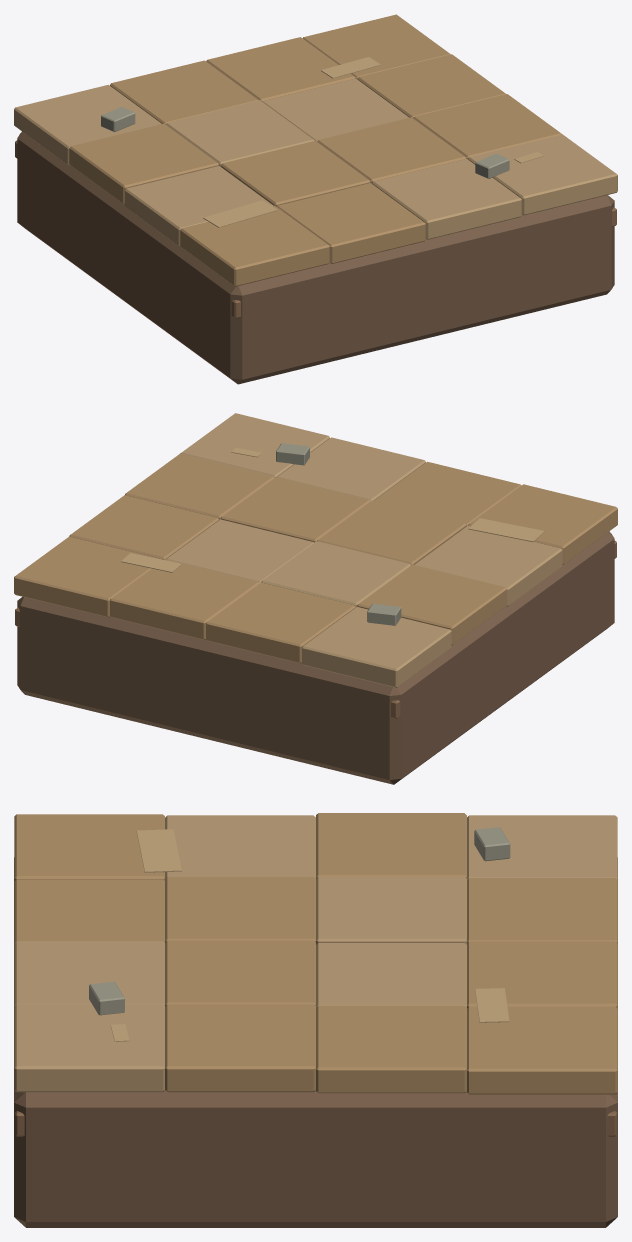
File: warm_ground_0.glb
3 views of the same model, one above another, from view 1: azimuth 30°, elevation 25°; view 2: azimuth 150°, elevation 25°; view 3: azimuth 270°, elevation 25° (orthographic). The views are drawn at different scales.
Visible parts, largest first — view 1: ground_0_sample_soil, ground_0_sample_earth, ground_0_sample_dust, ground_0_sample_sand, ground_0_sample_stone; view 2: ground_0_sample_earth, ground_0_sample_soil, ground_0_sample_dust, ground_0_sample_sand, ground_0_sample_stone; view 3: ground_0_sample_earth, ground_0_sample_soil, ground_0_sample_dust, ground_0_sample_sand, ground_0_sample_stone.
Boxes of the visible parts, x1=… form: ground_0_sample_soil: x1=17, y1=131, x2=614, y2=384; ground_0_sample_earth: x1=69, y1=14, x2=562, y2=286; ground_0_sample_dust: x1=14, y1=78, x2=617, y2=246; ground_0_sample_sand: x1=203, y1=57, x2=543, y2=227; ground_0_sample_stone: x1=101, y1=107, x2=509, y2=178; ground_0_sample_earth: x1=14, y1=453, x2=617, y2=663; ground_0_sample_soil: x1=17, y1=531, x2=614, y2=784; ground_0_sample_dust: x1=166, y1=413, x2=562, y2=687; ground_0_sample_sand: x1=121, y1=448, x2=544, y2=572; ground_0_sample_stone: x1=276, y1=443, x2=401, y2=625; ground_0_sample_earth: x1=14, y1=813, x2=617, y2=1094; ground_0_sample_soil: x1=14, y1=857, x2=617, y2=1227; ground_0_sample_dust: x1=14, y1=815, x2=617, y2=1092; ground_0_sample_sand: x1=110, y1=829, x2=509, y2=1041; ground_0_sample_stone: x1=89, y1=827, x2=510, y2=1015.
Bounding box in the file's own units: 0.925 × 0.3055 × 0.925.
